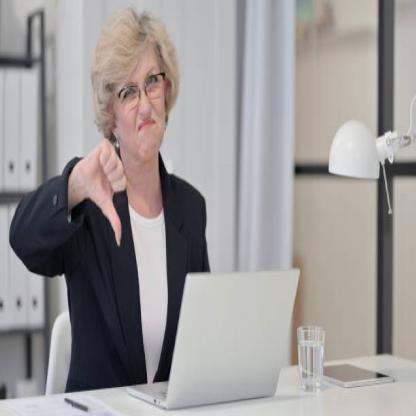thumb_down: (83, 134, 129, 246)
